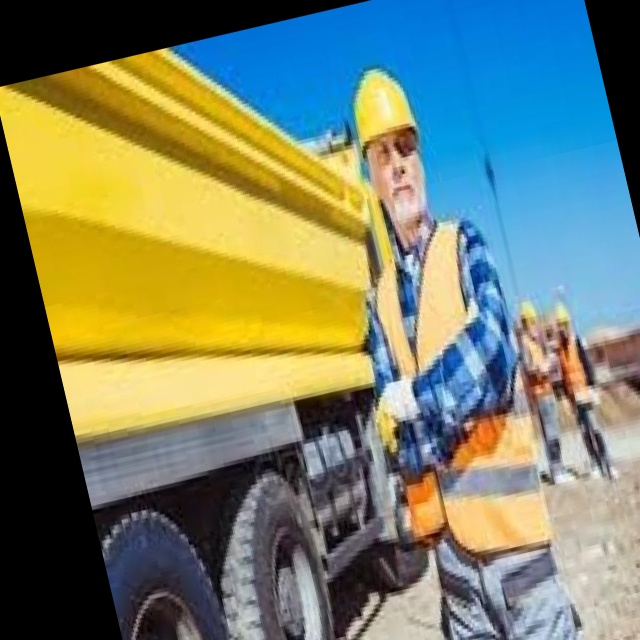Con_Chaleco: (348, 223, 552, 549)
